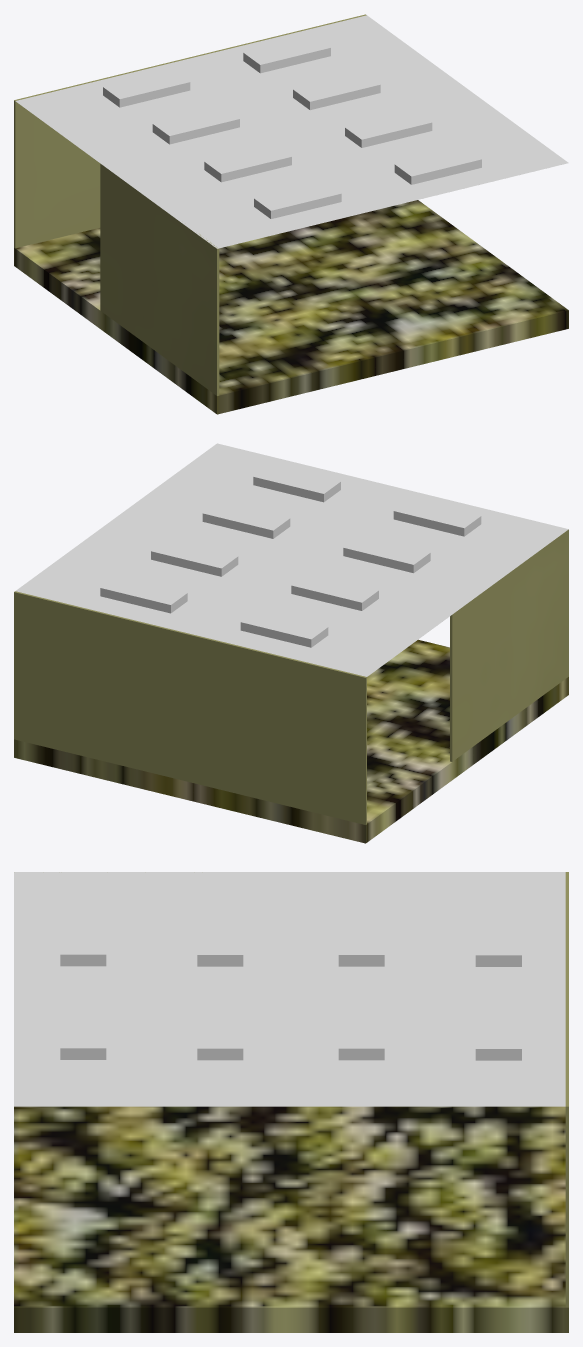
File: BackroomsLevelZero - 15.fbx
3 views of the same model, one above another, from view 1: azimuth 30°, elevation 25°; view 2: azimuth 150°, elevation 25°; view 3: azimuth 270°, elevation 25° (orthographic). The views are drawn at different scales.
Visible parts, largest first — view 1: Floor.029, Floor, Wall, Wall.005, Cube.174, Cube.175, Cube.173, Cube.177, Cube.171, Cube.176, Cube.178, Cube.172; view 2: Floor.029, Wall.005, Floor, Wall, Cube.176, Cube.171, Cube.177, Cube.174, Cube.175, Cube.178, Cube.173, Cube.172; view 3: Floor, Floor.029, Cube.175, Cube.176, Cube.177, Cube.171, Cube.172, Cube.173, Cube.174, Cube.178, Wall.005.
Boxes of the visible parts, bbox=[...] form: Floor.029: bbox=[15, 15, 568, 248]; Floor: bbox=[14, 200, 568, 414]; Wall: bbox=[100, 163, 219, 395]; Wall.005: bbox=[14, 14, 366, 248]; Cube.174: bbox=[243, 35, 330, 73]; Cube.175: bbox=[293, 72, 380, 110]; Cube.173: bbox=[204, 144, 291, 182]; Cube.177: bbox=[254, 181, 341, 218]; Cube.171: bbox=[103, 69, 190, 107]; Cube.176: bbox=[345, 110, 432, 147]; Cube.178: bbox=[394, 147, 481, 184]; Cube.172: bbox=[152, 106, 239, 144]; Floor.029: bbox=[15, 443, 568, 676]; Wall.005: bbox=[14, 591, 366, 824]; Floor: bbox=[14, 639, 568, 843]; Wall: bbox=[450, 529, 568, 761]; Cube.176: bbox=[202, 501, 290, 538]; Cube.171: bbox=[240, 610, 328, 647]; Cube.177: bbox=[393, 499, 481, 536]; Cube.174: bbox=[100, 575, 187, 613]; Cube.175: bbox=[151, 539, 238, 576]; Cube.178: bbox=[253, 464, 340, 502]; Cube.173: bbox=[343, 535, 430, 573]; Cube.172: bbox=[291, 573, 378, 610]; Floor: bbox=[14, 1106, 568, 1332]; Floor.029: bbox=[14, 872, 565, 1106]; Cube.175: bbox=[338, 1001, 384, 1060]; Cube.176: bbox=[197, 1001, 243, 1060]; Cube.177: bbox=[60, 907, 106, 966]; Cube.171: bbox=[475, 908, 521, 966]; Cube.172: bbox=[338, 908, 384, 966]; Cube.173: bbox=[197, 908, 243, 966]; Cube.174: bbox=[475, 1002, 521, 1060]; Cube.178: bbox=[60, 1001, 106, 1059]; Wall.005: bbox=[565, 872, 568, 1307].
Bounding box in the file's own units: 2000 × 946 × 2000.
